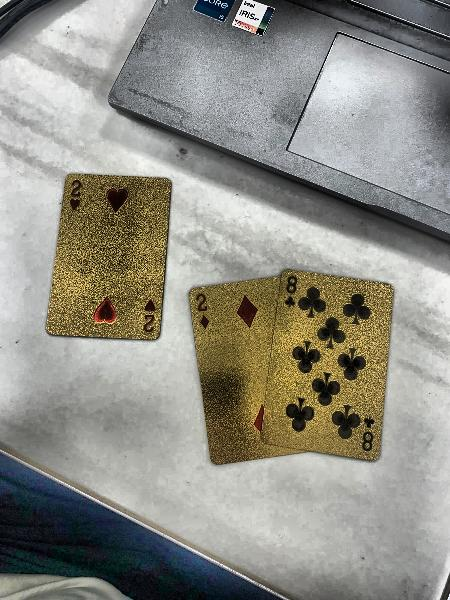2C: (137, 294, 161, 339), (65, 174, 87, 215)
2D: (189, 291, 217, 331)
8T: (361, 411, 378, 457), (281, 269, 299, 312)
